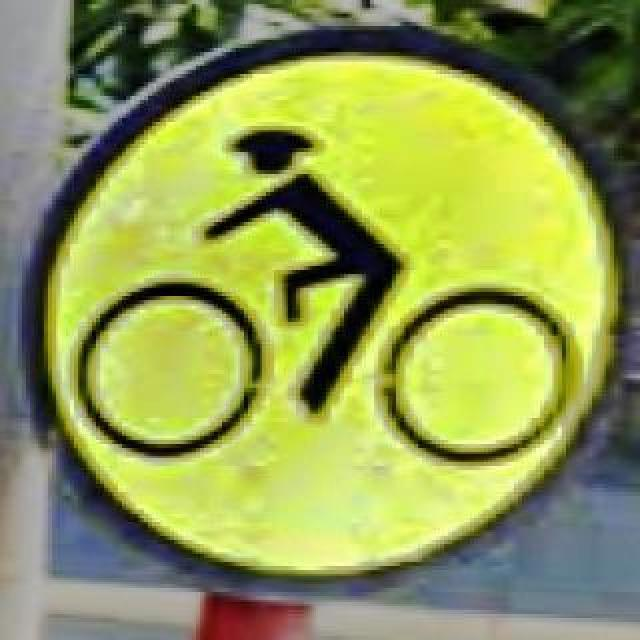bike lane: (18, 26, 622, 592)
